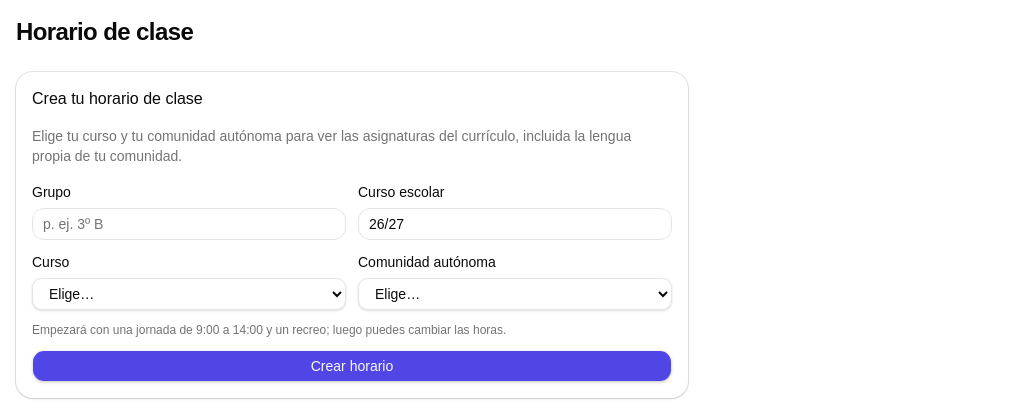
PaginaHorario › sin horario, pide crear uno con curso y comunidad
Expected: the text "Crea tu horario de clase" is shown, 32,90 -> 203,107
Type "3º B" into the field labelled "Grupo" at (189, 224), box 32,208 -> 346,240
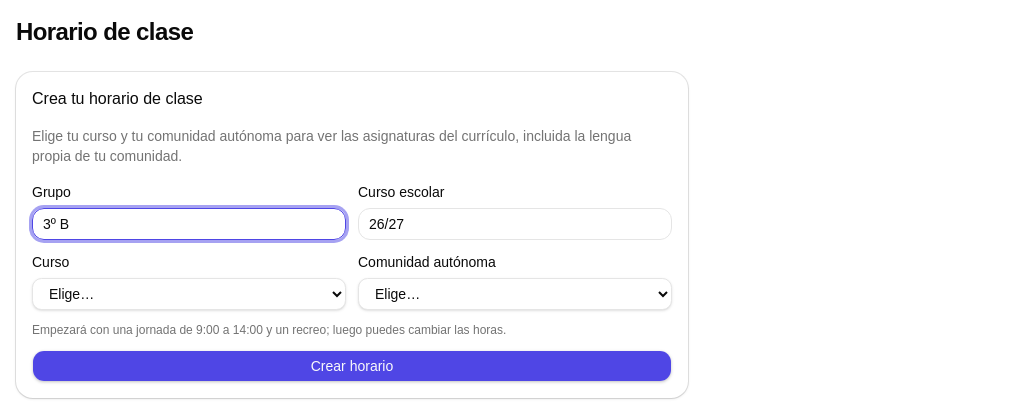
Select "3º de Primaria" in the dropdown labelled "Curso" at (189, 294), box 32,278 -> 346,310
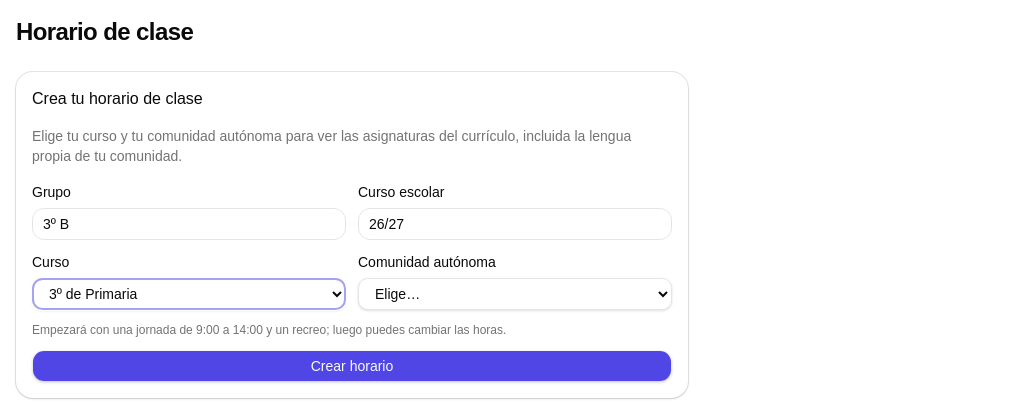
Select "Comunitat Valenciana" in the dropdown labelled "Comunidad autónoma" at (515, 294), box 358,278 -> 672,310
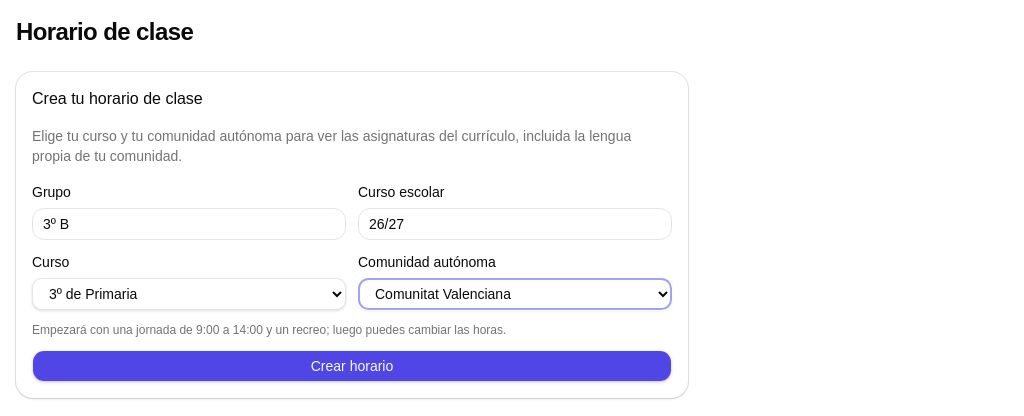
Click the button "Crear horario" at (352, 366), box 32,350 -> 672,382
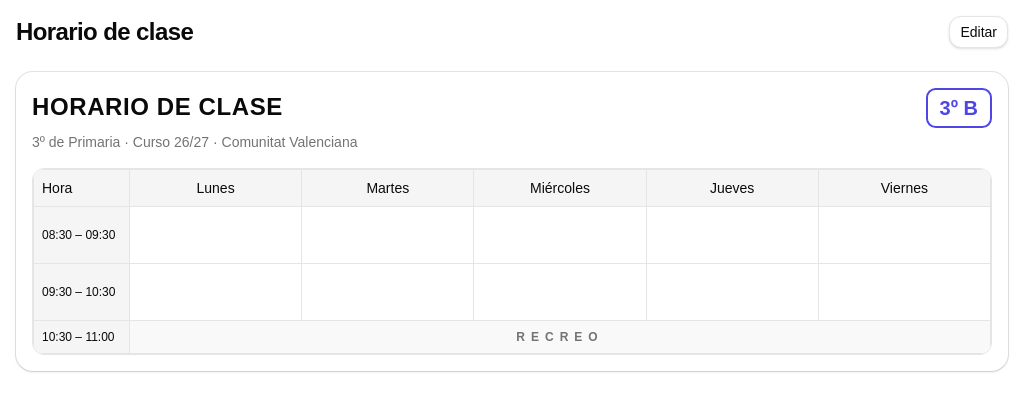
Now the column heading "lunes" is shown, box 130,170 -> 302,206
